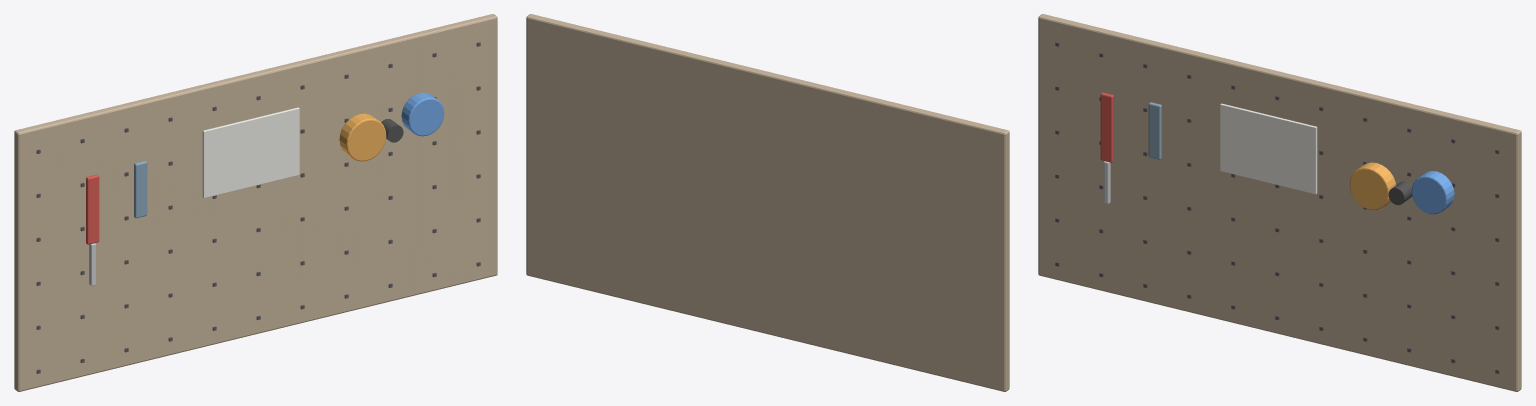
File: pegboard.fbx
The picture shows the model from 3 angles, left to right: view 1: azimuth 30°, elevation 25°; view 2: azimuth 150°, elevation 25°; view 3: azimuth 330°, elevation 25°; orthographic projection.
Visible parts, largest first — view 1: pegboard; view 2: pegboard; view 3: pegboard.
Part boxes in pixels (left/top/right/bottom): pegboard: left=14, top=14, right=497, bottom=391; pegboard: left=526, top=14, right=1009, bottom=391; pegboard: left=1038, top=14, right=1521, bottom=391.
Size of the model in its own units: 1.2 by 0.62 by 0.06.
